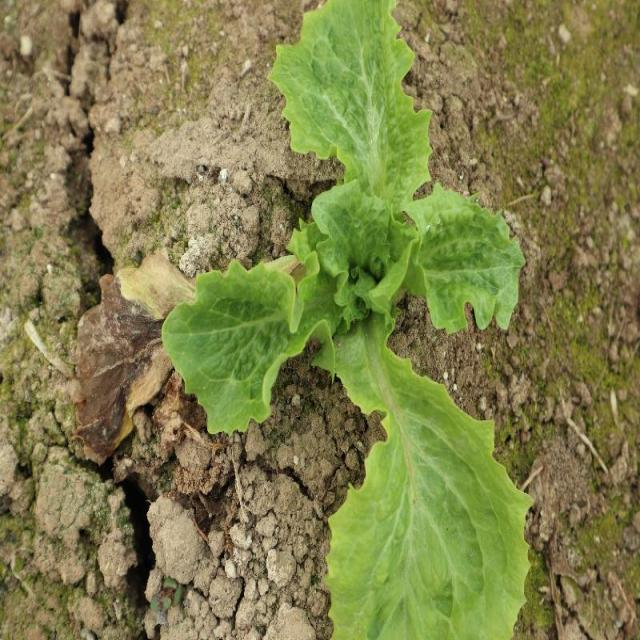crop: (159, 0, 535, 640)
